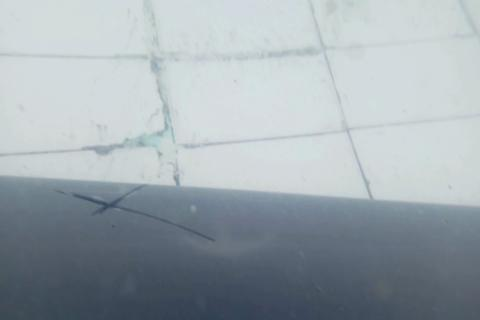keretakan: (53, 182, 218, 244)
